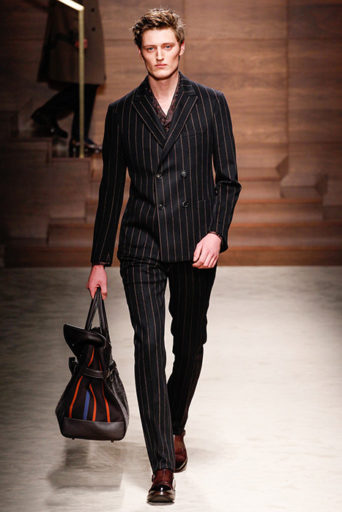striped: (89, 72, 245, 474)
